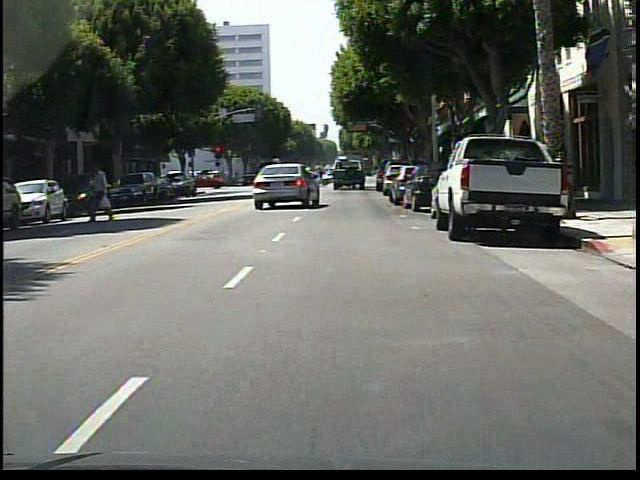person: (93, 162, 116, 227), (299, 168, 310, 190), (318, 166, 326, 190)
